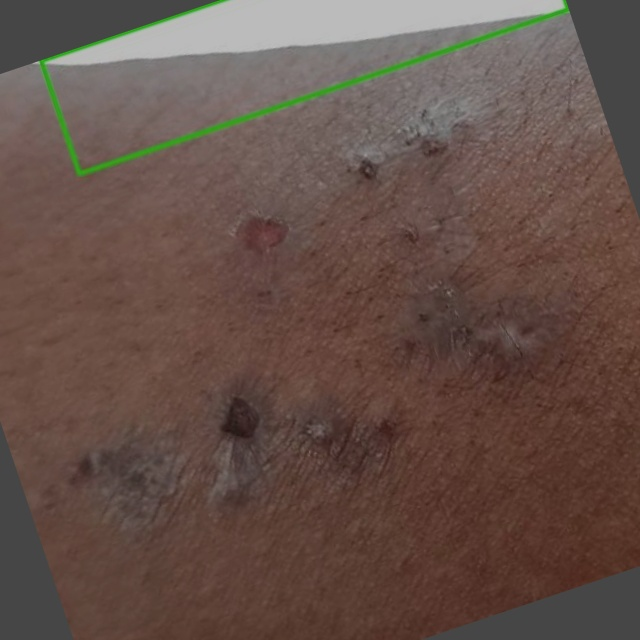Atopic Dermatitis: (41, 0, 568, 173)
